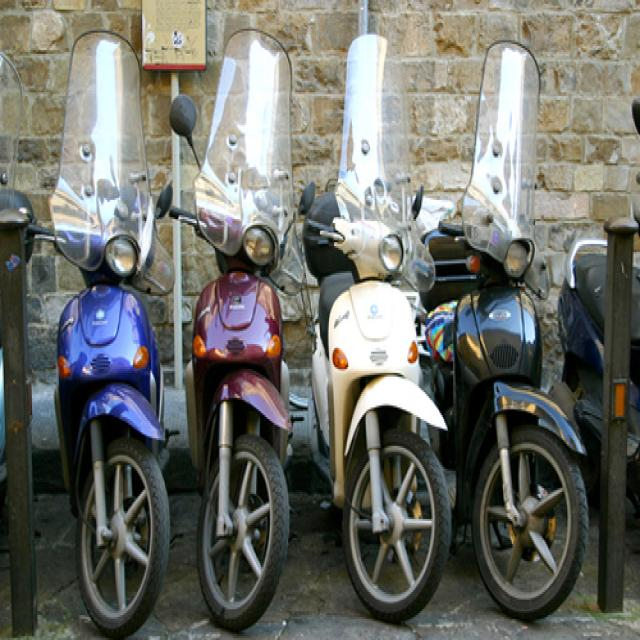motorbike: (421, 1, 591, 639), (289, 1, 448, 635), (31, 22, 181, 639), (178, 16, 312, 639), (560, 232, 640, 493)
